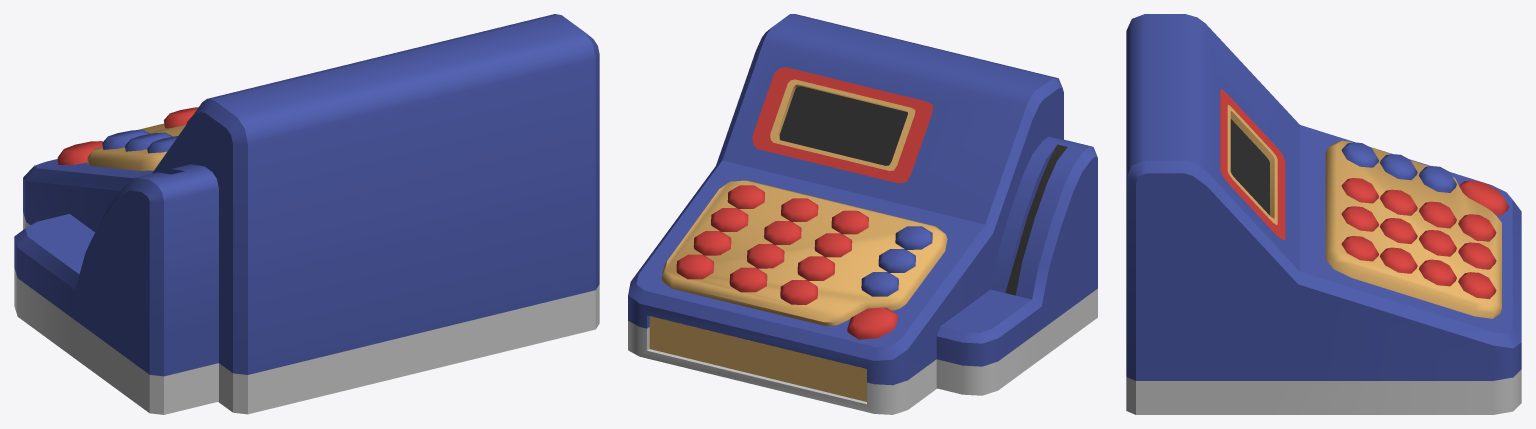
Rendered from CashierMachine_01.fbx.
The picture shows the model from 3 angles, left to right: view 1: azimuth 30°, elevation 25°; view 2: azimuth 150°, elevation 25°; view 3: azimuth 270°, elevation 25°; orthographic projection. The views are drawn at different scales.
Visible parts, largest first — view 1: CashierMachine_01; view 2: CashierMachine_01, CashierMachine_01_MoneyHolder; view 3: CashierMachine_01.
Boxes of the visible parts, x1,y1,x2,y2 form: CashierMachine_01: [14, 14, 599, 414]; CashierMachine_01: [628, 14, 1097, 414]; CashierMachine_01_MoneyHolder: [649, 316, 866, 401]; CashierMachine_01: [1126, 14, 1521, 414].
Bounding box in the file's own units: 0.3508 × 0.2252 × 0.3222.
